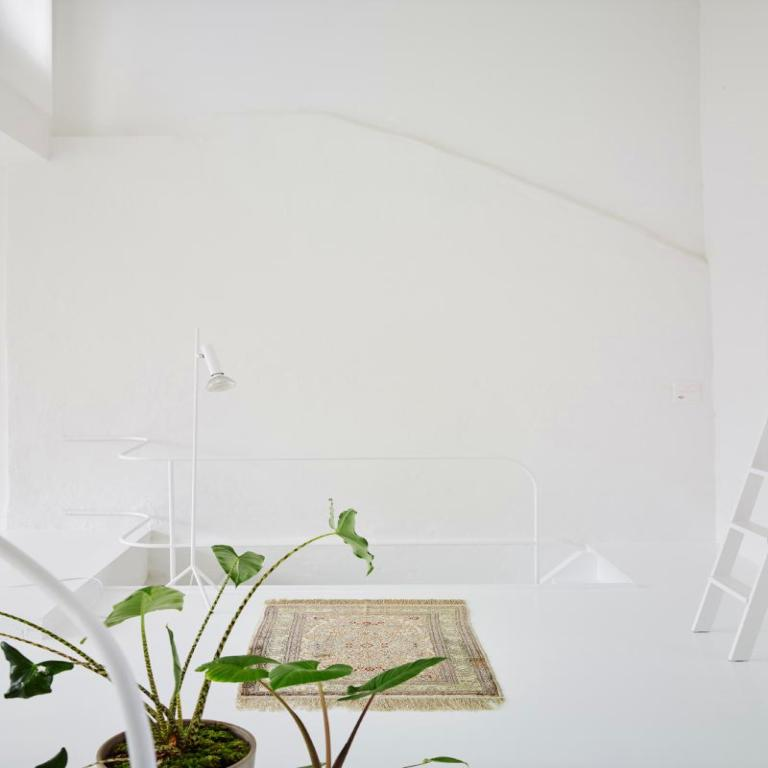white-walls: (228, 194, 652, 441)
